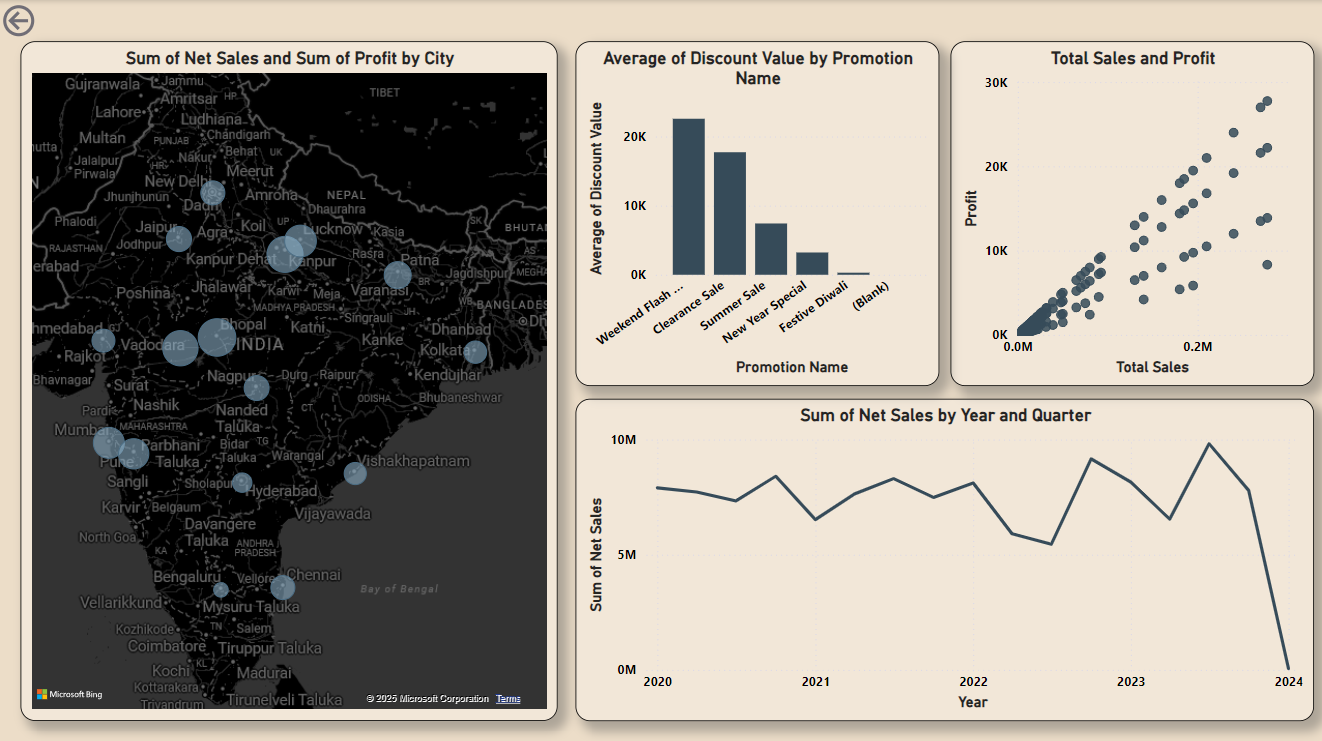

The dashboard page shown, as its layout file describes it:
{"tool":"powerbi","page":{"name":"Page 2","canvas":[1280,720],"ordinal":1},"visuals":[{"type":"scatterChart","fields":{"Y":["Fact Table.Profit"],"X":["Fact Table.Total Sales"]},"box":[919.3,39.8,351.1,333],"z":0},{"type":"columnChart","fields":{"Y":["Avg(Fact Table.Discount Value)"],"Category":["Dim Promotion.Promotion Name"]},"box":[557.4,39.8,351.1,333],"z":1000},{"type":"map","fields":{"Category":["Dim Customers.City"],"Size":["Sum(Fact Table.Net Sales)"]},"box":[21.7,39.8,518.8,656.3],"z":2000},{"type":"actionButton","box":[0,0,100,40],"z":3000},{"type":"lineChart","fields":{"Category":["Date Table 1.Date.Variation.Date Hierarchy.Year","Date Table 1.Date.Variation.Date Hierarchy.Quarter","Date Table 1.Date.Variation.Date Hierarchy.Month","Date Table 1.Date.Variation.Date Hierarchy.Day"],"Y":["Sum(Fact Table.Net Sales)"]},"box":[557.4,384.9,713,311.3],"z":4000}]}

Visuals, with their boxes in screenshot pixels (x1, y1, x2, y2), scaled from the page's 1280x720 canvas onto the 1322x741 screenshot:
scatterChart - Fact Table.Profit x Fact Table.Total Sales: x1=949, y1=41, x2=1312, y2=384
columnChart - Avg(Fact Table.Discount Value) x Dim Promotion.Promotion Name: x1=576, y1=41, x2=938, y2=384
map - Dim Customers.City x Sum(Fact Table.Net Sales): x1=22, y1=41, x2=558, y2=716
actionButton: x1=0, y1=0, x2=103, y2=41
lineChart - Date Table 1.Date.Variation.Date Hierarchy.Year x Date Table 1.Date.Variation.Date Hierarchy.Quarter: x1=576, y1=396, x2=1312, y2=717
